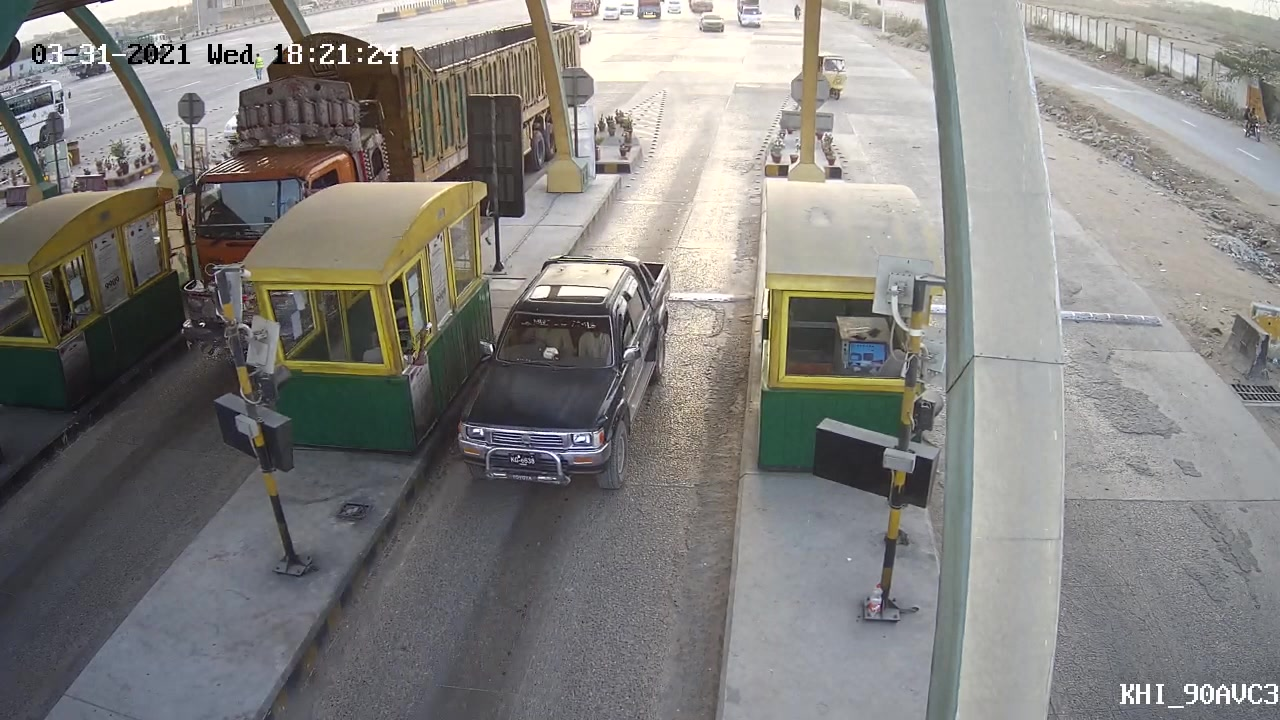F1: (448, 247, 678, 490)
